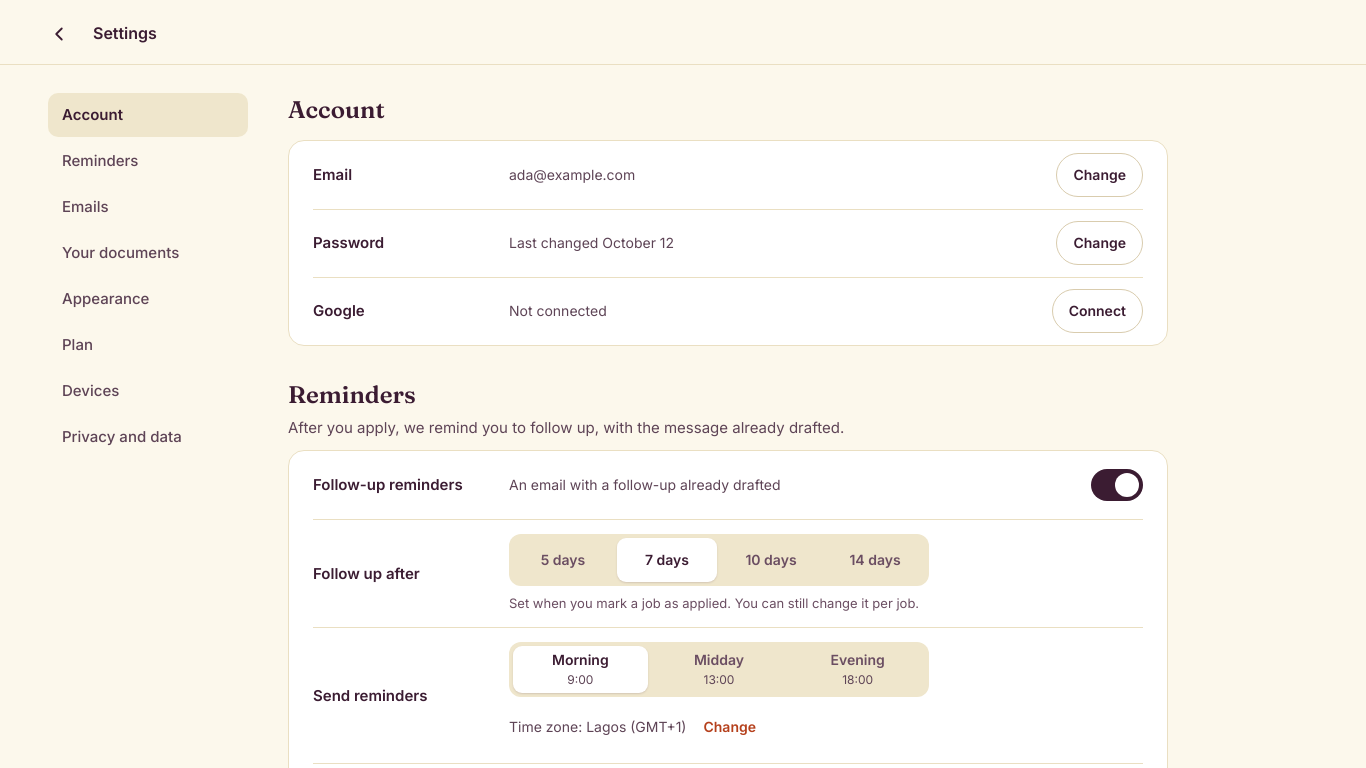
Test: SettingsPage › changes the time zone through the searchable list
The width and height of the screenshot is (1366, 768).
expect the text "Time zone: Lagos (GMT+1)" is shown: met, box [509,717,686,737]
Click the button with aria-label "Change time zone" at (730, 727), box [694,705,765,749]
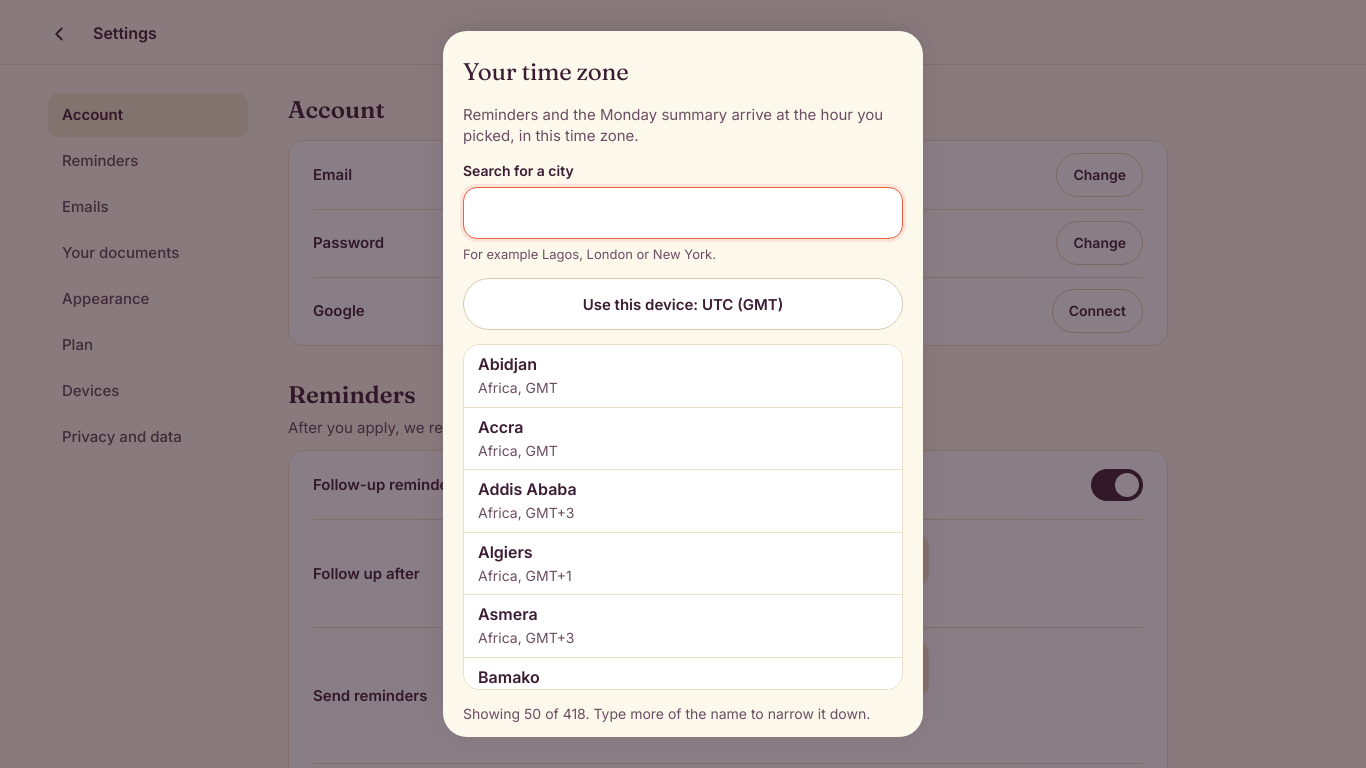
Type "tokyo" into the search field labelled "Search for a city" at (683, 213), box [463,187,903,239]
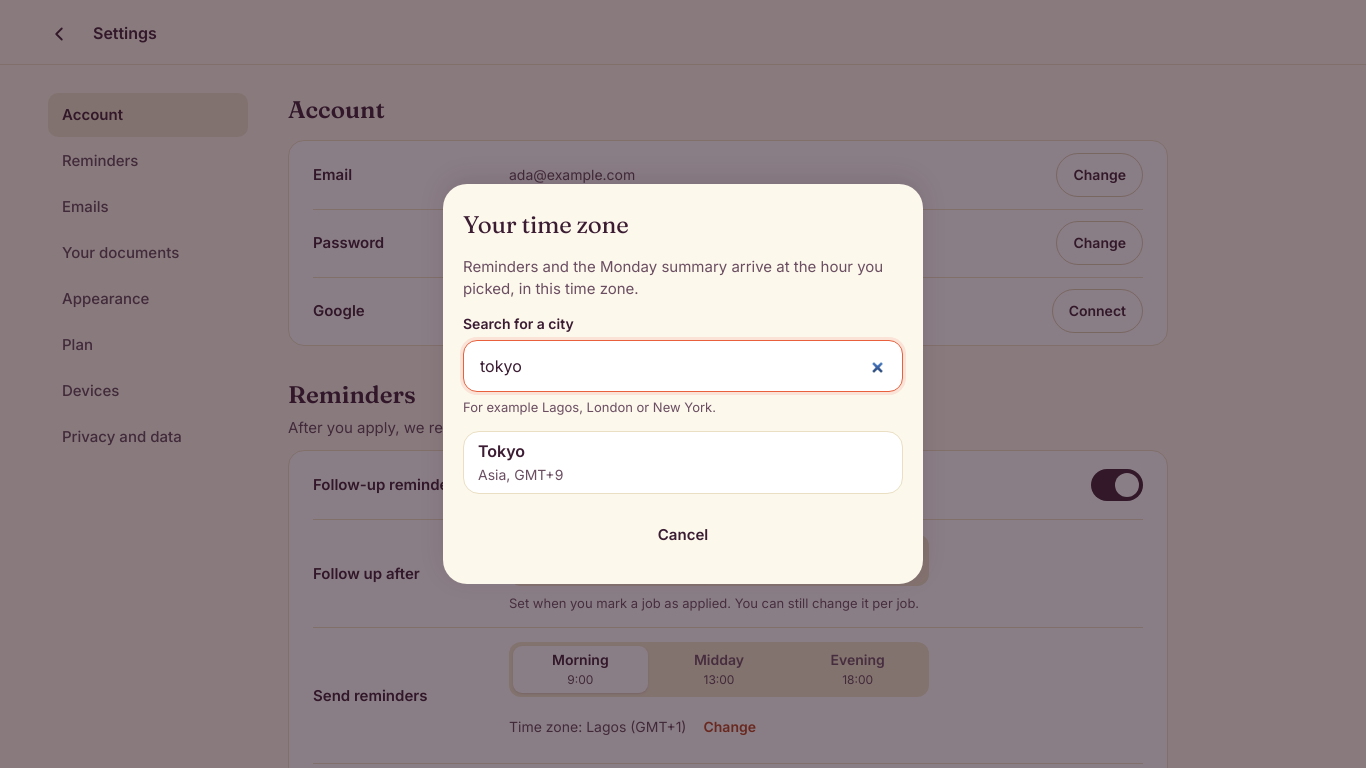
Click the button "Tokyo Asia, GMT+9" at (502, 451), box [464,432,902,494]
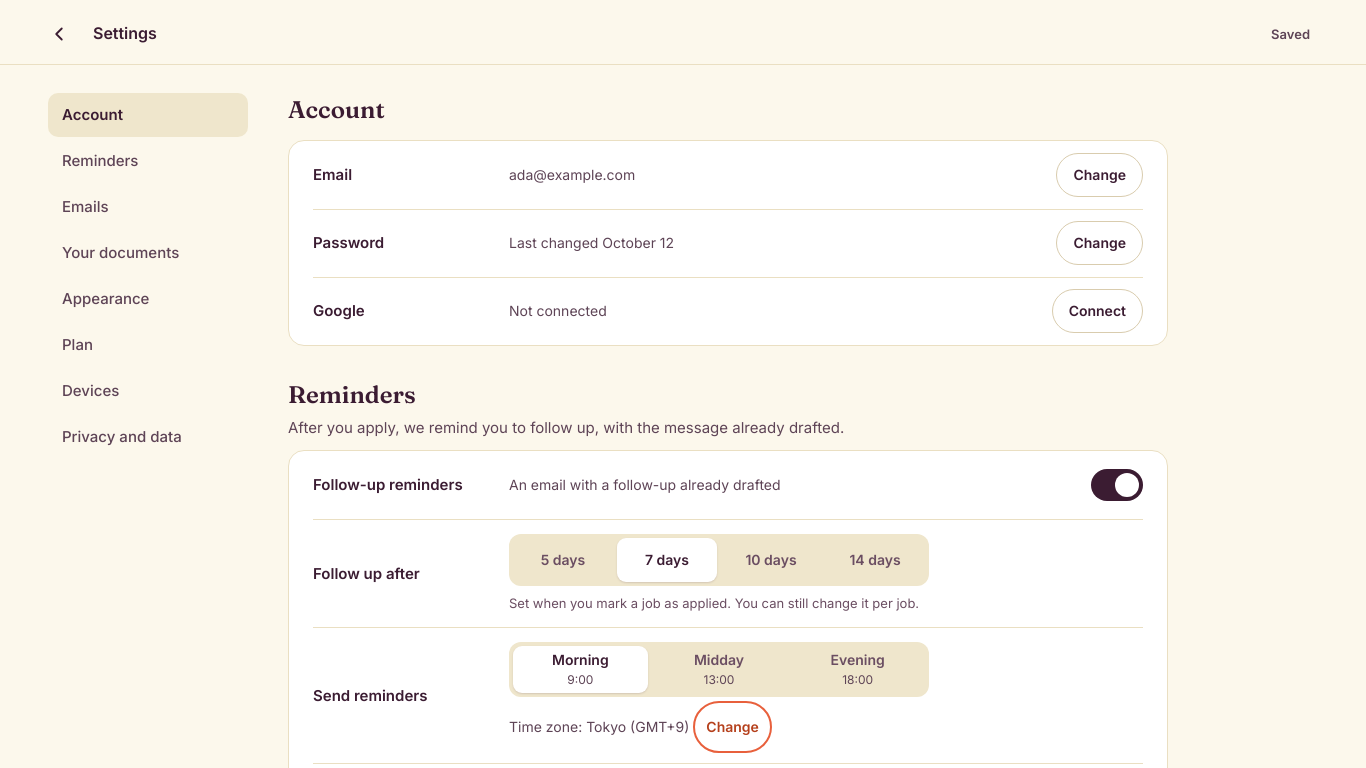
expect the dialog is gone: met
expect the text "Time zone: Tokyo (GMT+9)" is shown: met, box [509,717,689,737]
